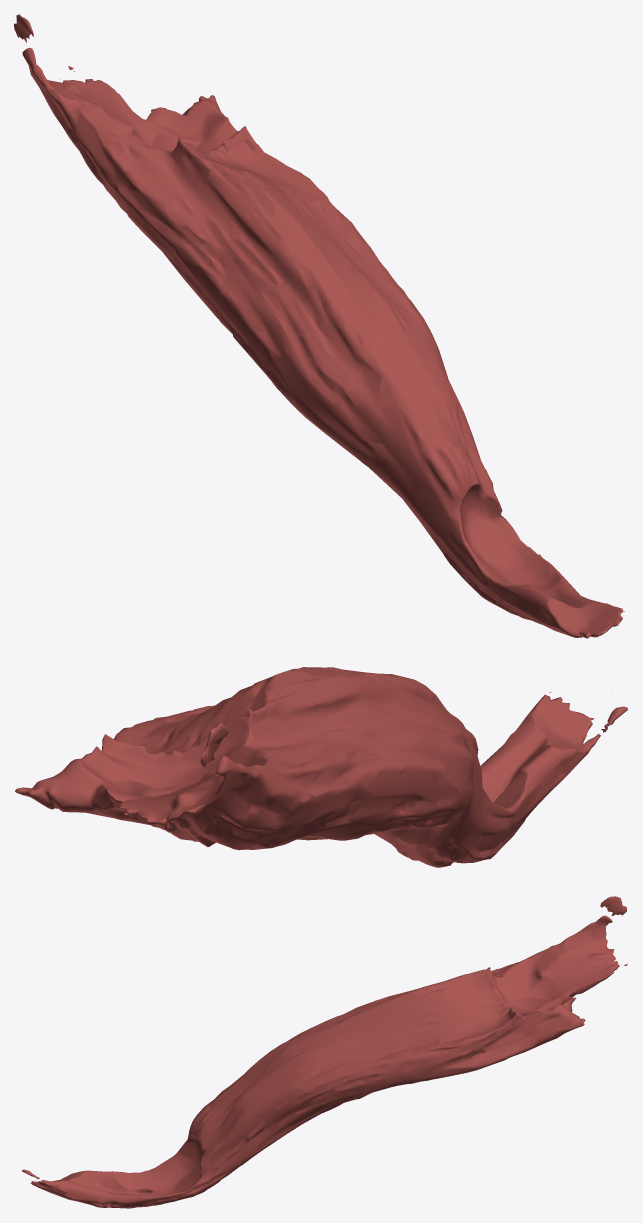
File: FMA45974.glb
The picture shows the model from 3 angles, top to bottom: view 1: azimuth 30°, elevation 25°; view 2: azimuth 150°, elevation 25°; view 3: azimuth 270°, elevation 25°; orthographic projection. The views are drawn at different scales.
Visible parts, largest first — view 1: FMA45974; view 2: FMA45974; view 3: FMA45974.
Boxes of the visible parts, x1=… form: FMA45974: x1=14, y1=14, x2=624, y2=638; FMA45974: x1=15, y1=667, x2=627, y2=867; FMA45974: x1=22, y1=896, x2=627, y2=1208.
Bounding box in the file's own units: 0.0205 × 0.0374 × 0.0811.
